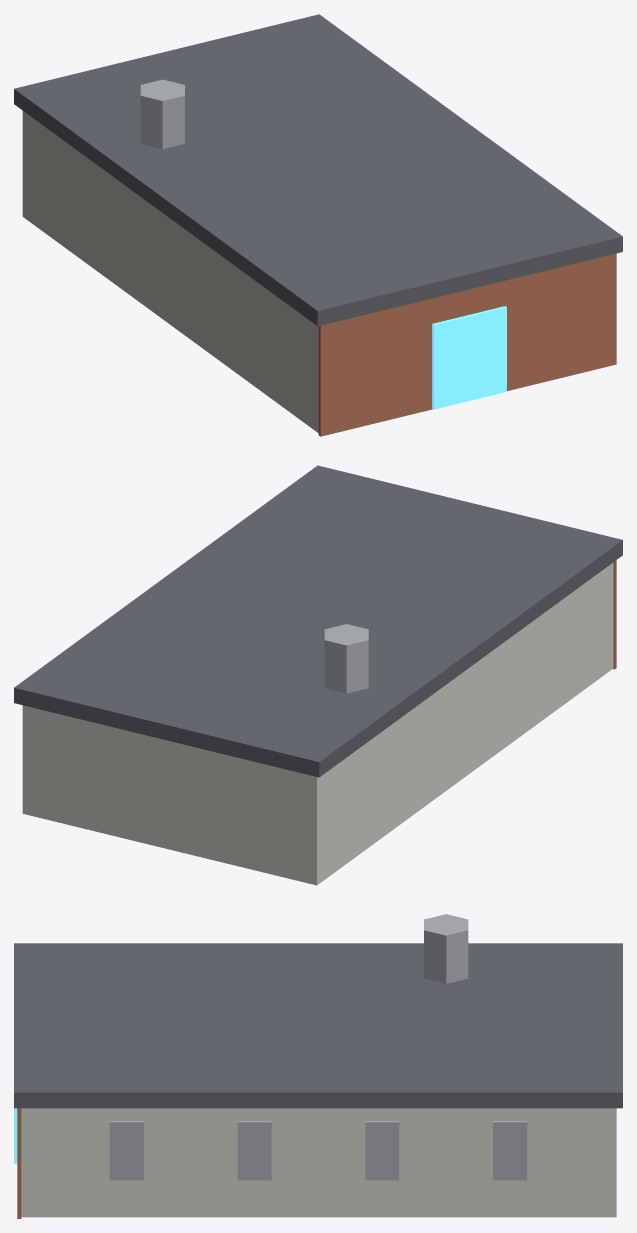
The model's file is AssemblyHall.glb.
3 views of the same model, one above another, from view 1: azimuth 30°, elevation 25°; view 2: azimuth 150°, elevation 25°; view 3: azimuth 270°, elevation 25° (orthographic).
Parts seen in each view (by area): view 1: AssemblyHall; view 2: AssemblyHall; view 3: AssemblyHall.
Boxes of the visible parts, x1,y1,x2,y2 form: AssemblyHall: [14, 14, 622, 436]; AssemblyHall: [14, 465, 622, 885]; AssemblyHall: [14, 914, 622, 1218].
Size of the model in its own units: 16.6 by 9.15 by 28.6.
